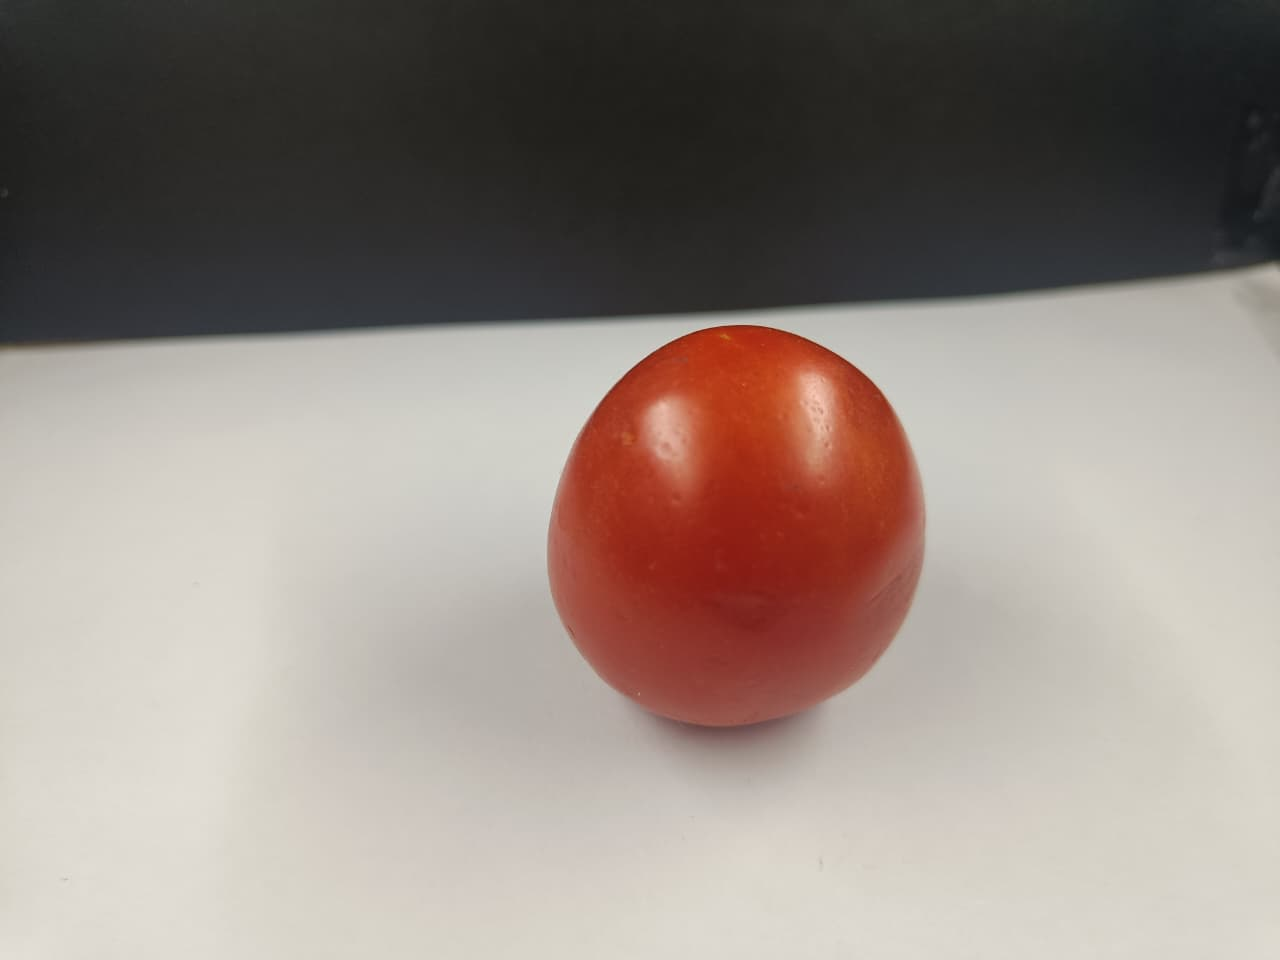ripe: (562, 319, 928, 733)
